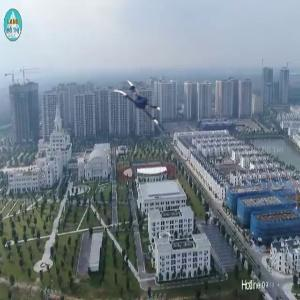drone: (109, 79, 165, 135)
